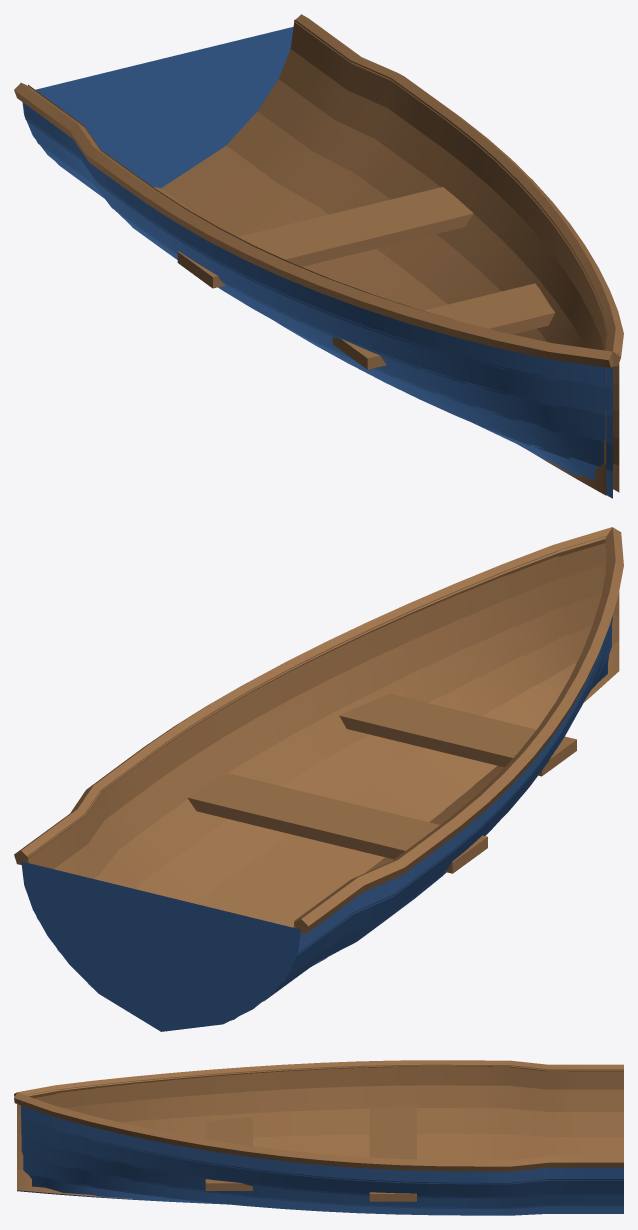
The model's file is beach_boat.glb.
The picture shows the model from 3 angles, top to bottom: view 1: azimuth 30°, elevation 25°; view 2: azimuth 150°, elevation 25°; view 3: azimuth 270°, elevation 25°; orthographic projection. The views are drawn at different scales.
Visible parts, largest first — view 1: beach_boat; view 2: beach_boat; view 3: beach_boat.
Part boxes in pixels (left/top/right/bottom): beach_boat: left=14, top=14, right=623, bottom=498; beach_boat: left=14, top=527, right=623, bottom=1031; beach_boat: left=14, top=1060, right=623, bottom=1215.
Size of the model in its own units: 1.47 by 0.7669 by 3.62.
